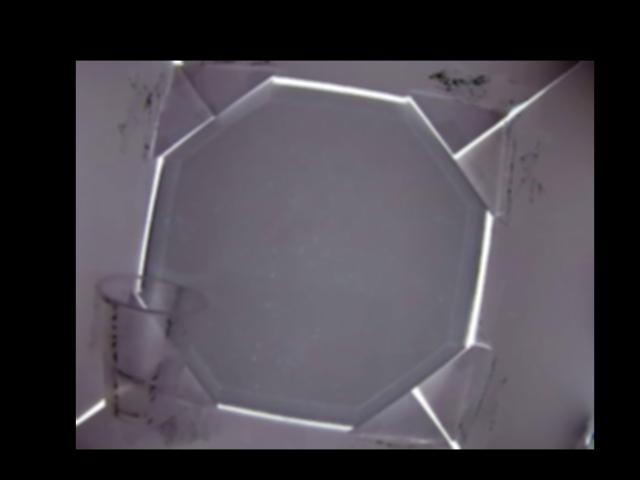Cup: (95, 275, 209, 420)
